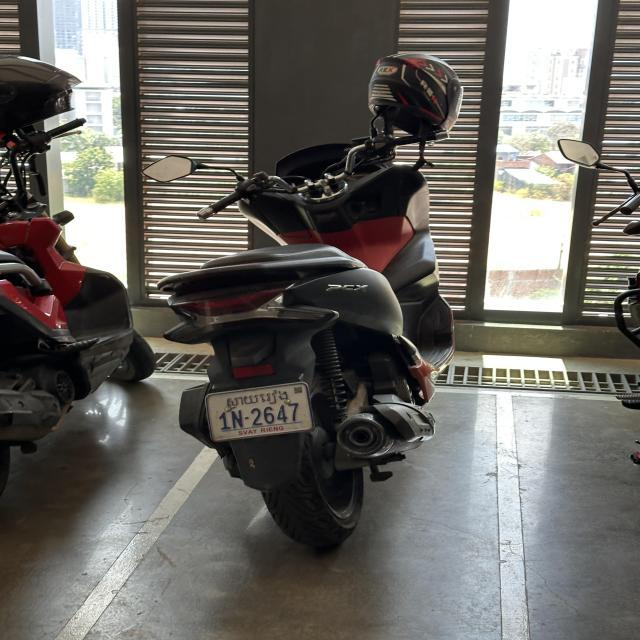Svay_Rieng: (224, 387, 288, 411)
